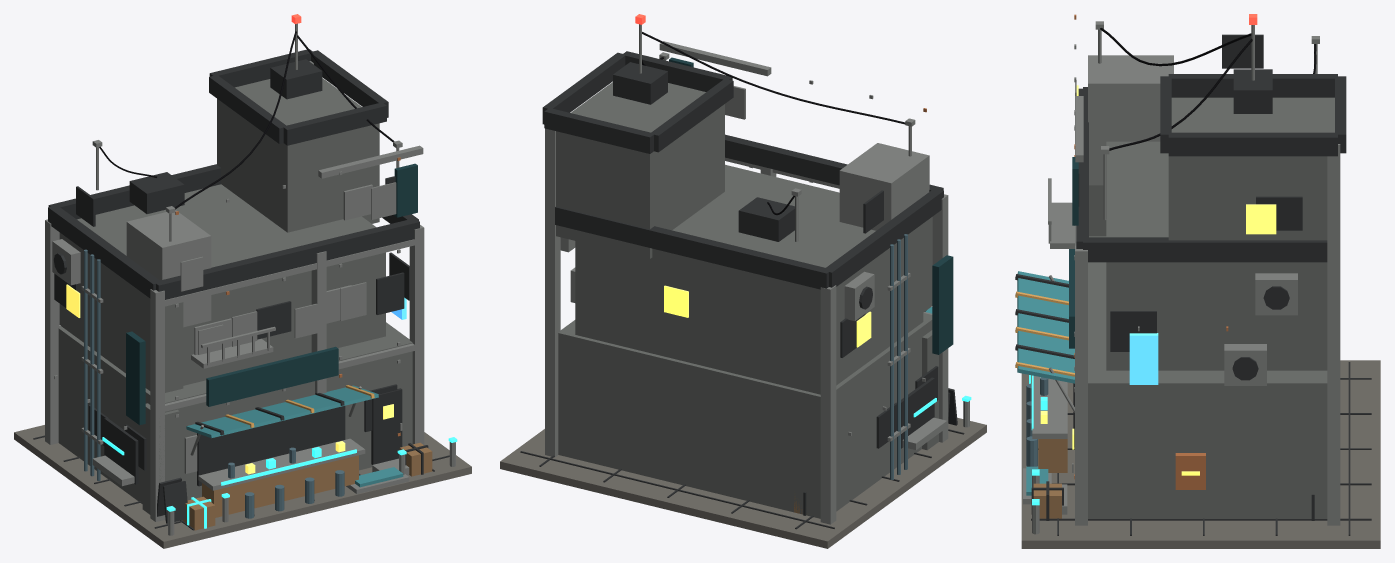
The model's file is SM_BazaarBuilding_MedSupplyAlleyCorner.glb.
3 renders of one model, left to right at view 1: azimuth 30°, elevation 25°; view 2: azimuth 150°, elevation 25°; view 3: azimuth 270°, elevation 25°, orthographic. The views are drawn at different scales.
Visible parts, largest first — view 1: Main_Block_UpperSetback, Main_Block_RearServiceTower, Main_Block_StreetLevel, Sidewalk_CornerBase_Slab, Shop_MedSupply_Recess_BackPanel, Roof_Parapet_Front, Main_Block_LeftCornerStack, Sign_MedSupply_BackPanel, Shop_MedSupply_Counter, Reinforced_CornerPost_01, Reinforced_CornerPost_02, Reinforced_CornerPost_03 (+40 smaller); view 2: Main_Block_StreetLevel, Main_Block_UpperSetback, Main_Block_RearServiceTower, Sidewalk_CornerBase_Slab, Roof_Parapet_Back, Main_Block_LeftCornerStack, Reinforced_CornerPost_04, Reinforced_CornerPost_03, Roof_Parapet_Left, Roof_Parapet_Front, Tower_Parapet_Back, Tower_Parapet_Left (+20 smaller); view 3: Main_Block_StreetLevel, Main_Block_UpperSetback, Main_Block_RearServiceTower, Sidewalk_CornerBase_Slab, Main_Block_LeftCornerStack, Roof_Parapet_Right, Reinforced_CornerPost_04, Awning_MedSupply_MainSlab, Tower_Parapet_Right, Reinforced_CornerPost_02, Tower_Parapet_Left, Tower_Roof_UtilityBox (+25 smaller).
Boxes of the visible parts, <box> form: Main_Block_UpperSetback: <box>59,184,385,390</box>; Main_Block_RearServiceTower: <box>217,78,379,232</box>; Main_Block_StreetLevel: <box>58,322,412,503</box>; Sidewalk_CornerBase_Slab: <box>14,425,471,548</box>; Shop_MedSupply_Recess_BackPanel: <box>197,406,345,486</box>; Roof_Parapet_Front: <box>154,220,419,299</box>; Main_Block_LeftCornerStack: <box>126,210,211,327</box>; Sign_MedSupply_BackPanel: <box>206,346,338,406</box>; Shop_MedSupply_Counter: <box>202,455,358,517</box>; Reinforced_CornerPost_01: <box>150,289,164,521</box>; Reinforced_CornerPost_02: <box>409,225,424,444</box>; Reinforced_CornerPost_03: <box>45,219,59,444</box>; Main_Block_StreetLevel: <box>558,313,932,518</box>; Main_Block_UpperSetback: <box>575,164,923,394</box>; Main_Block_RearServiceTower: <box>556,82,724,258</box>; Sidewalk_CornerBase_Slab: <box>500,418,986,548</box>; Roof_Parapet_Back: <box>555,206,831,289</box>; Main_Block_LeftCornerStack: <box>839,143,929,230</box>; Reinforced_CornerPost_04: <box>545,128,560,457</box>; Reinforced_CornerPost_03: <box>820,285,836,524</box>; Roof_Parapet_Left: <box>823,188,943,287</box>; Roof_Parapet_Front: <box>725,134,943,191</box>; Tower_Parapet_Back: <box>544,108,654,153</box>; Tower_Parapet_Left: <box>650,79,733,152</box>; Main_Block_StreetLevel: <box>1088,236,1327,518</box>; Main_Block_UpperSetback: <box>1106,141,1327,370</box>; Main_Block_RearServiceTower: <box>1168,97,1334,273</box>; Sidewalk_CornerBase_Slab: <box>1021,360,1380,548</box>; Main_Block_LeftCornerStack: <box>1088,55,1173,185</box>; Roof_Parapet_Right: <box>1083,237,1327,262</box>; Reinforced_CornerPost_04: <box>1327,144,1340,525</box>; Awning_MedSupply_MainSlab: <box>1017,271,1074,383</box>; Tower_Parapet_Right: <box>1168,132,1337,156</box>; Reinforced_CornerPost_02: <box>1075,245,1087,525</box>; Tower_Parapet_Left: <box>1168,74,1337,97</box>; Tower_Roof_UtilityBox: <box>1233,69,1272,113</box>.
Size of what is drawn, in the model's own units: 8.26 by 10.33 by 7.03.
